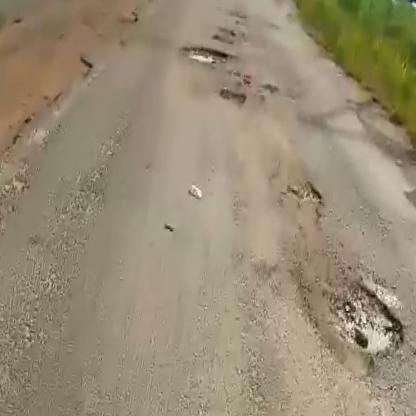pothole: (321, 270, 416, 364), (279, 178, 327, 213), (178, 40, 230, 67), (216, 86, 248, 109)
